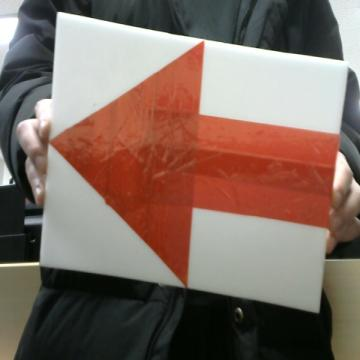red_left: (50, 41, 338, 286)
